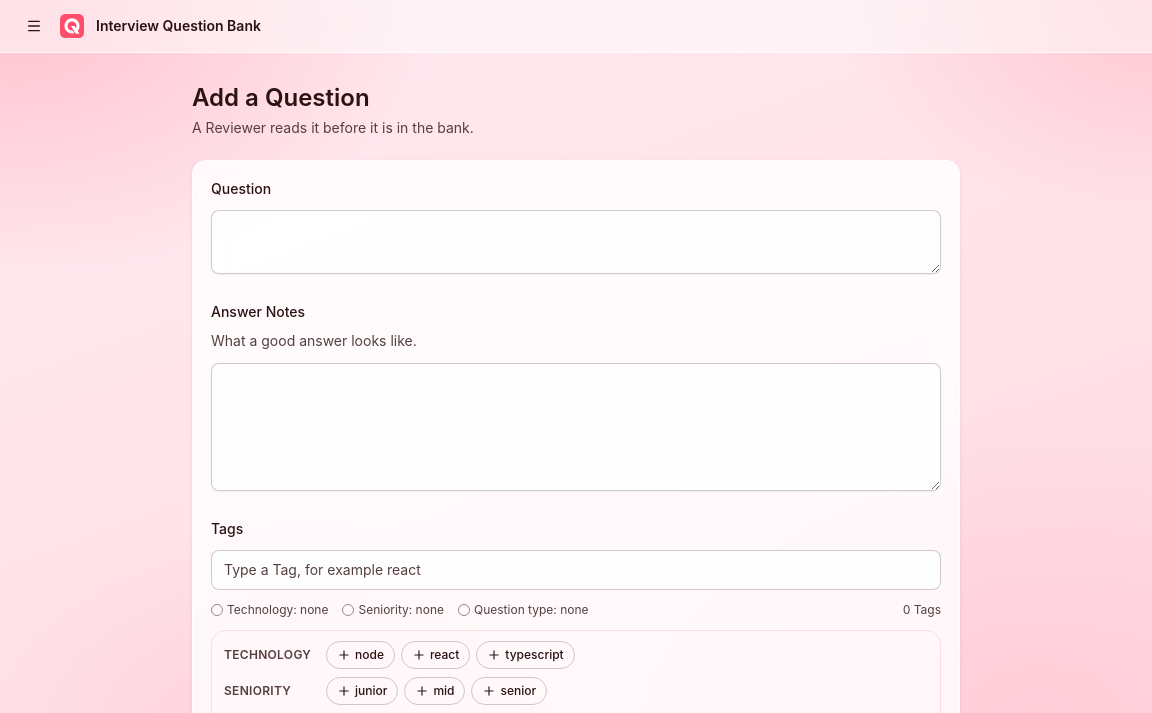
Test: a Question the API judged a Near-Duplicate › sends the same Question again with the Author's word, and opens it
In the text box labelled "Question": (576, 242) top-left (211, 210), bottom-right (941, 274), type "How would you find a slow query?"
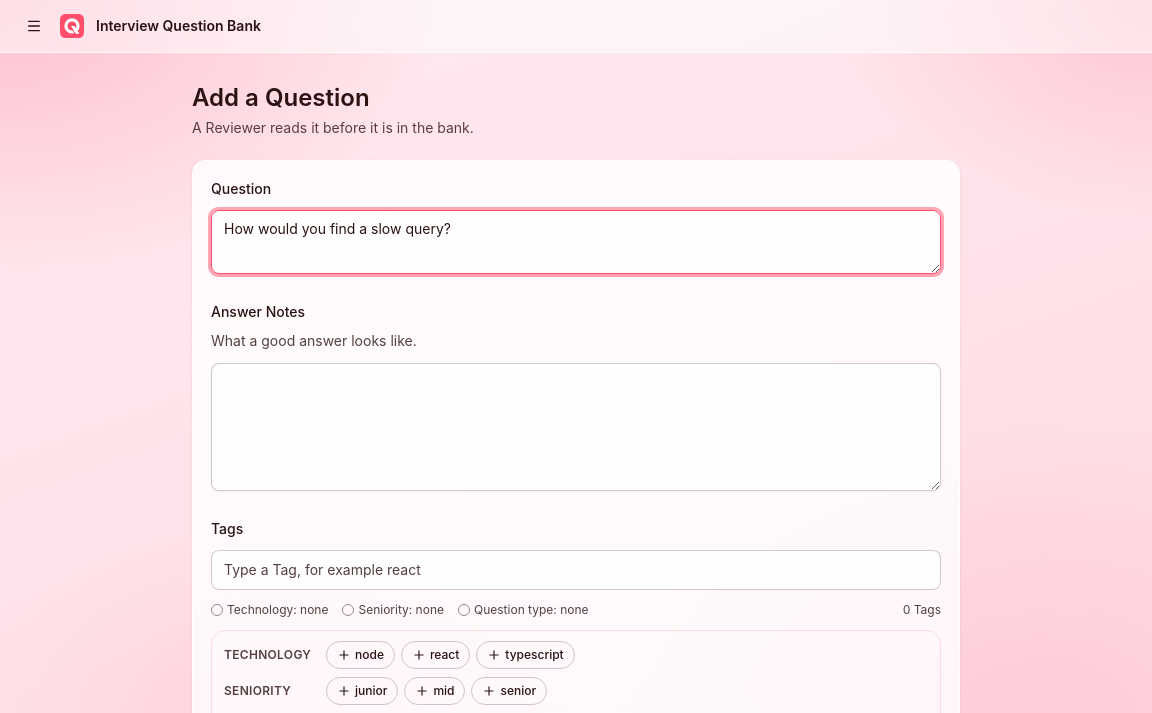
In the text box labelled "Answer Notes": (576, 426) top-left (211, 362), bottom-right (941, 490), type "Look for EXPLAIN ANALYZE."
(page scrolled)
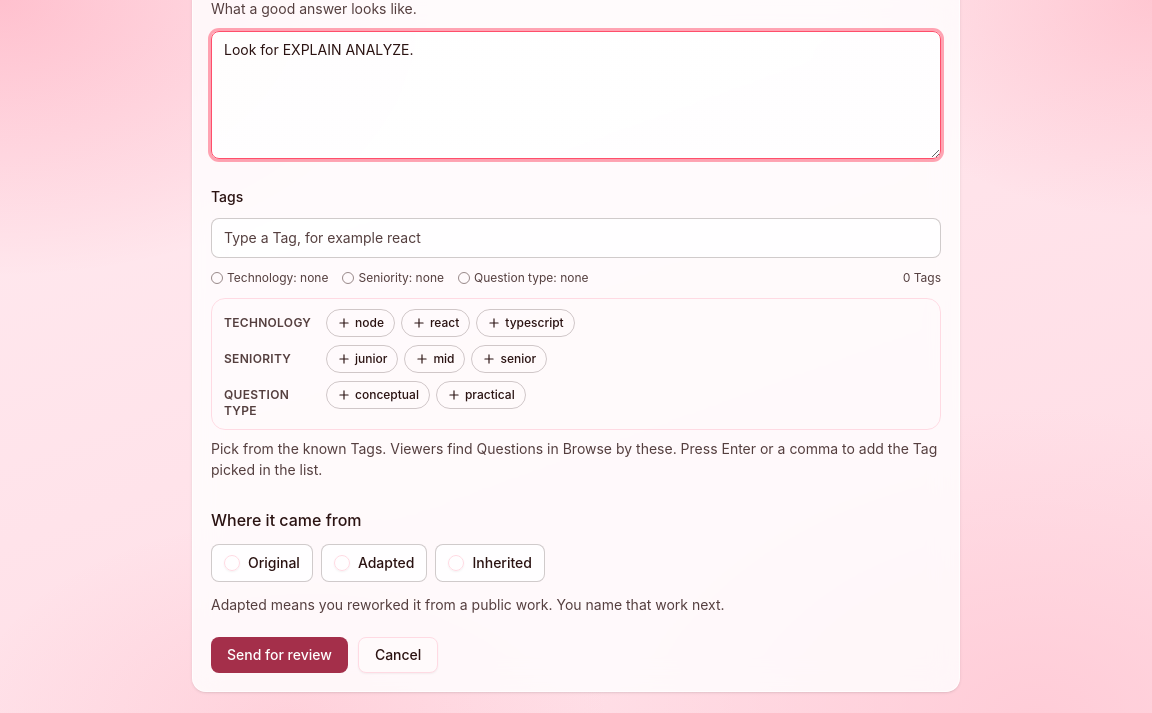
Click the radio button named "Original" next to "Original": click(232, 563) top-left (224, 555), bottom-right (240, 571)
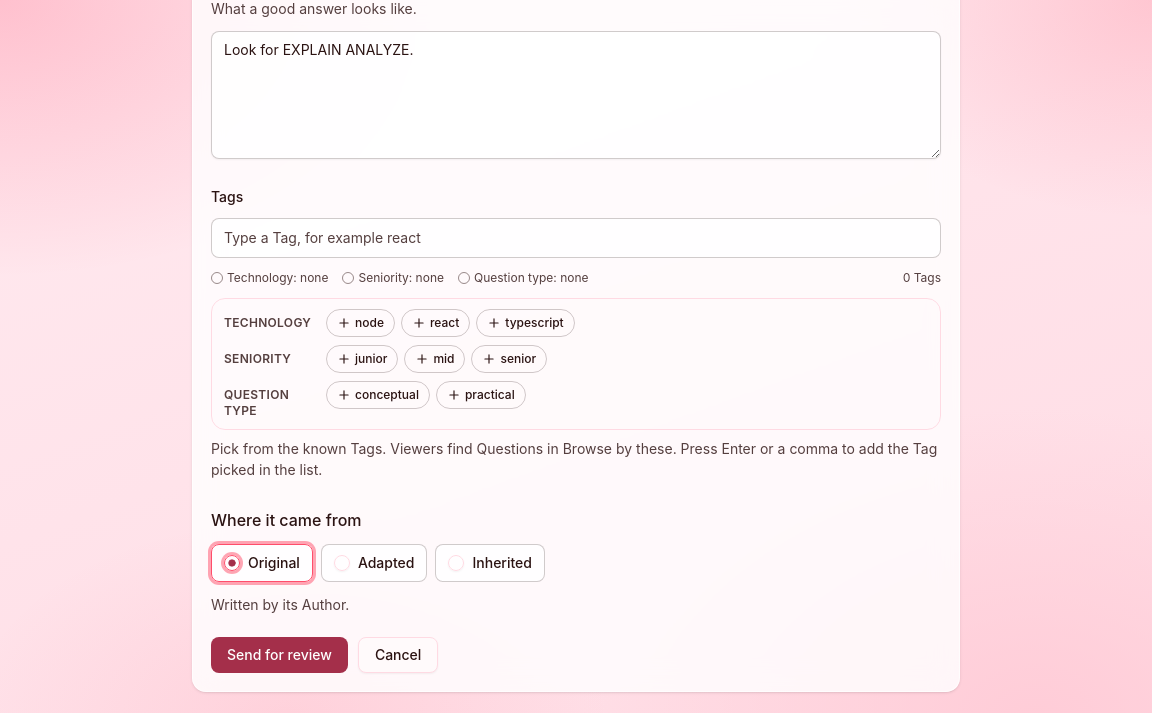
Click the button "Send for review": click(279, 655) top-left (211, 637), bottom-right (348, 673)
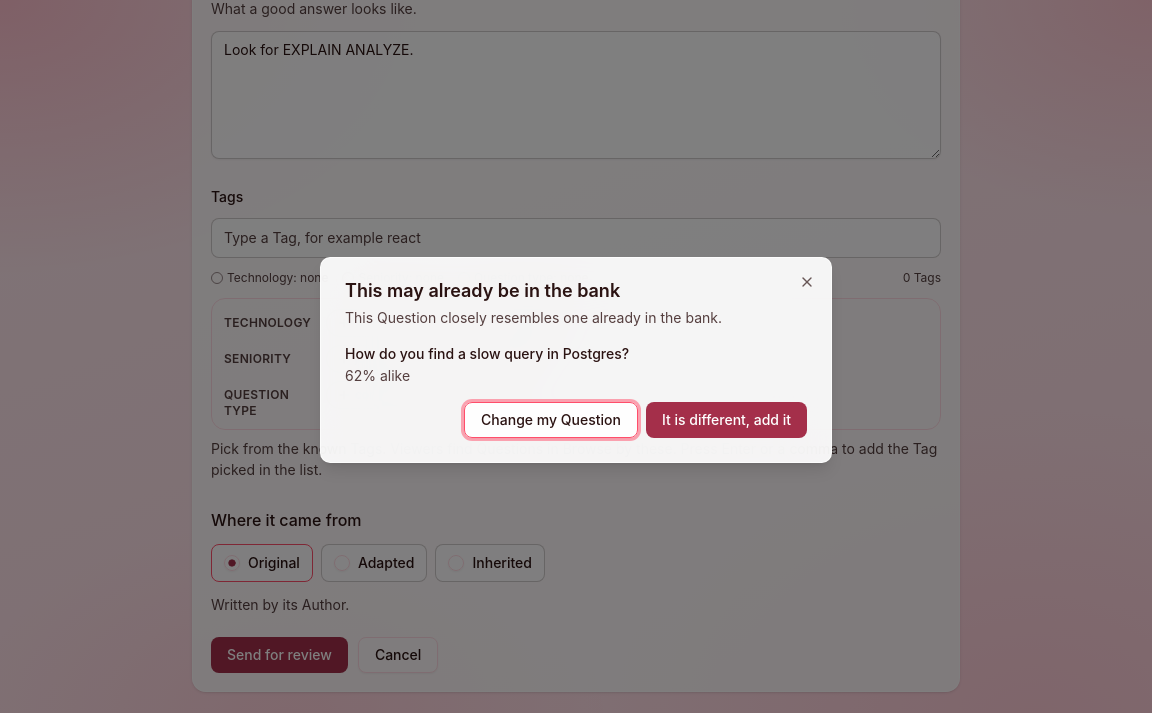
Click the button "It is different, add it": click(726, 420) top-left (646, 402), bottom-right (807, 438)
(page scrolled)
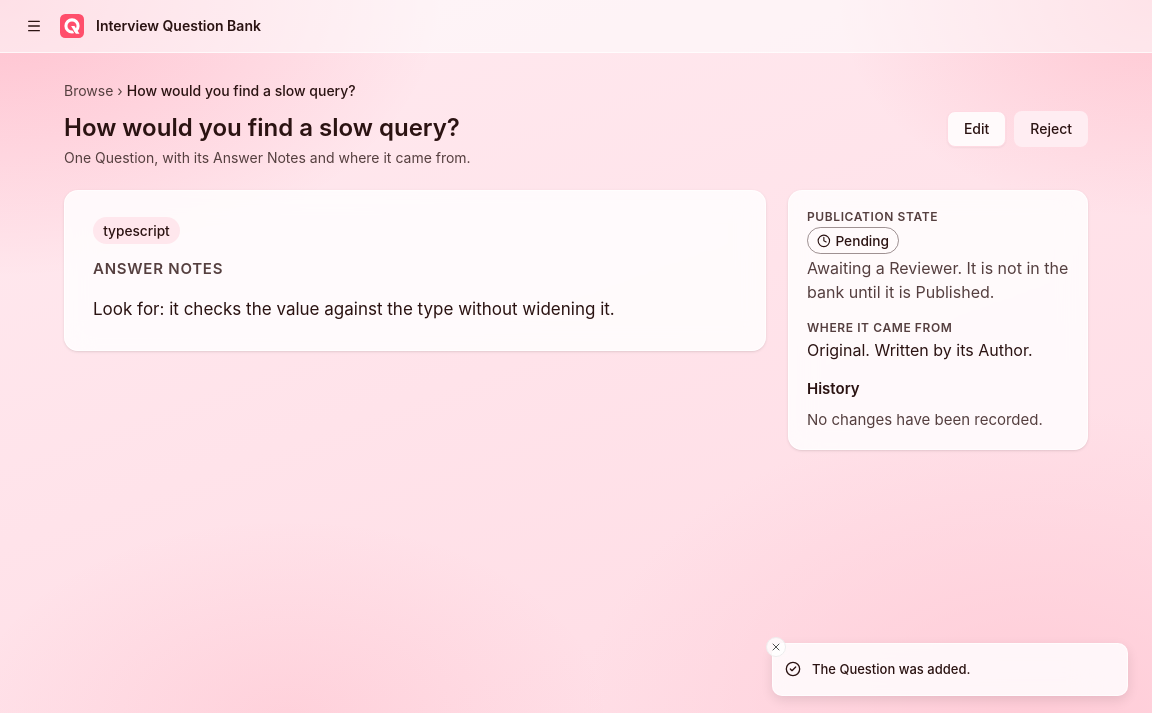
Expected: the heading "How would you find a slow query?" is shown, top-left (64, 113), bottom-right (460, 142)
